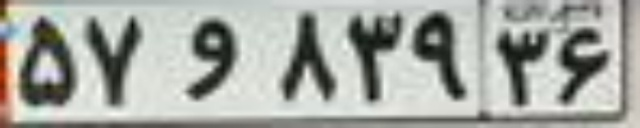3: (345, 9, 408, 101), (493, 29, 551, 105)
5: (19, 16, 78, 106)
6: (554, 27, 611, 104)
7: (81, 16, 147, 107)
8: (279, 10, 338, 102)
9: (412, 9, 471, 99)
vav: (176, 18, 239, 100)
